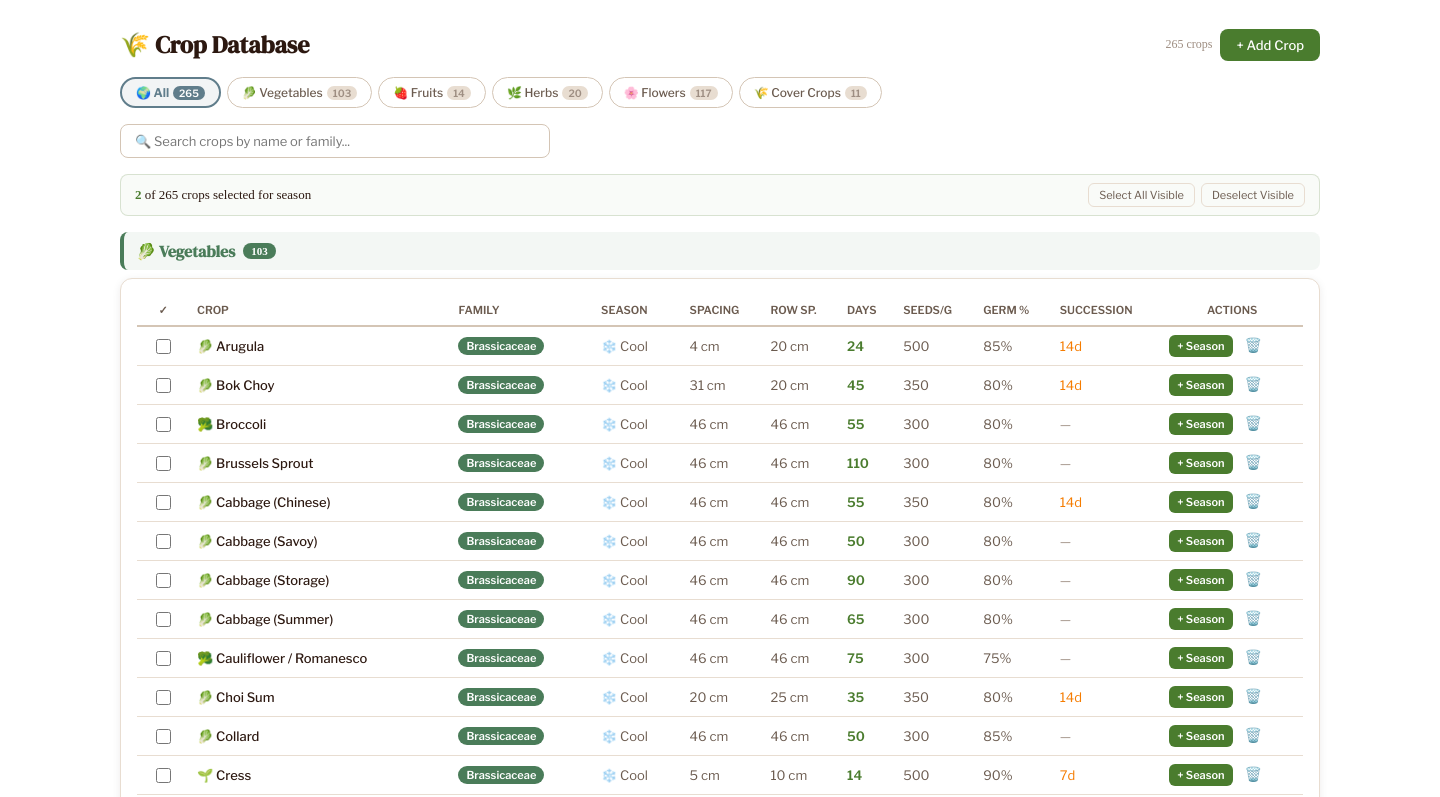
Test: CropsTab › filters by type
The image size is (1440, 797).
Click Herbs filter
Click the button "🌿 Herbs 20".
click(547, 92)  # box [492,77,603,108]
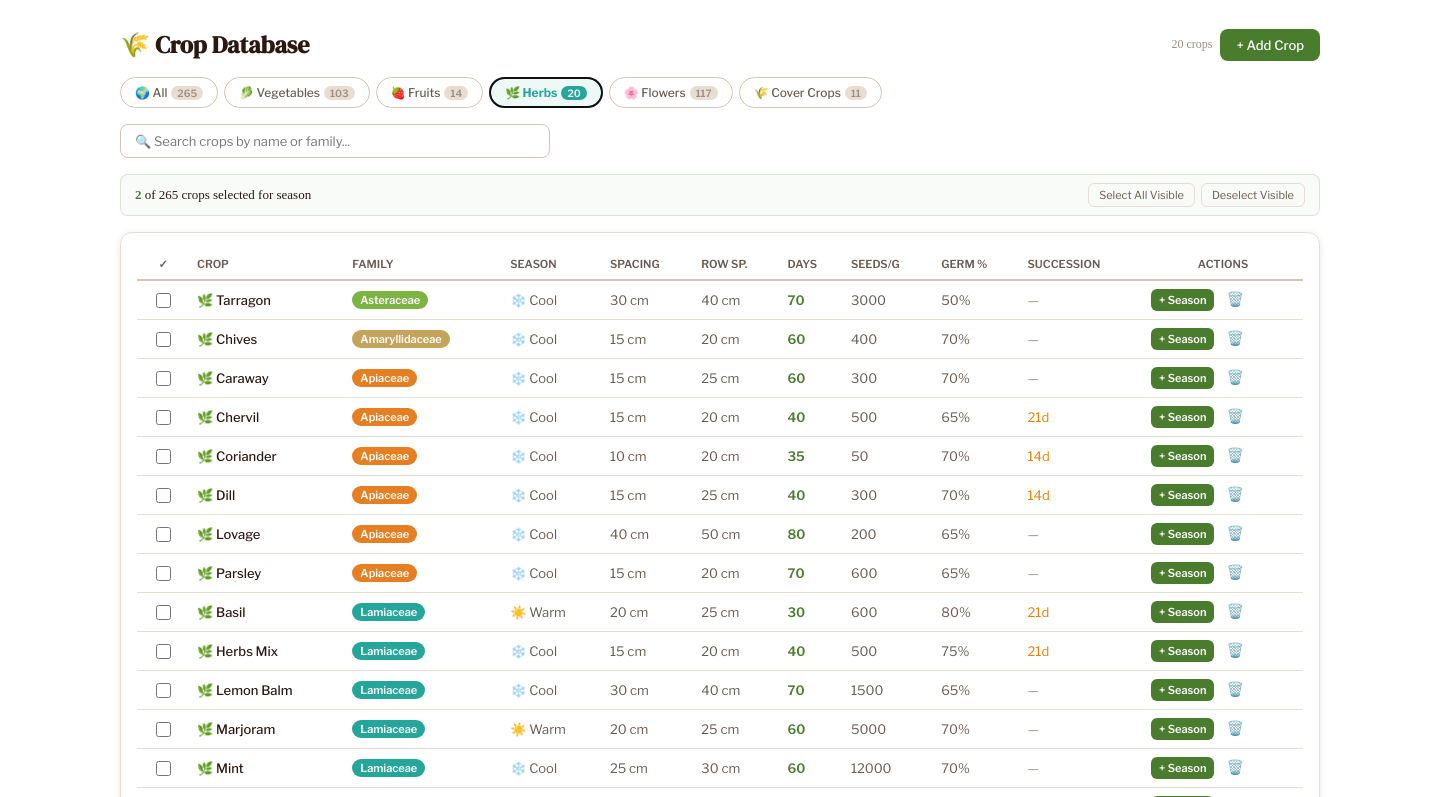
Check: the text "🌿 Basil" is shown, box [189,592,344,632]
Check: the text "Broccoli" is gone
